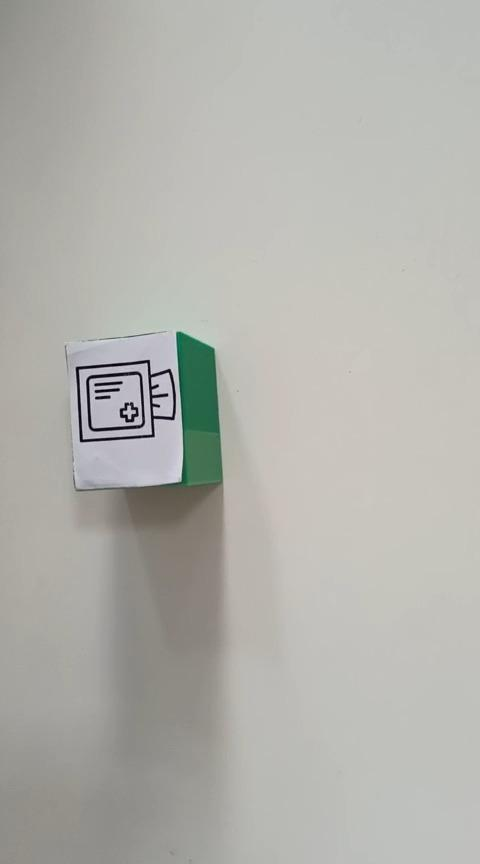Gauze: (63, 328, 223, 491)
